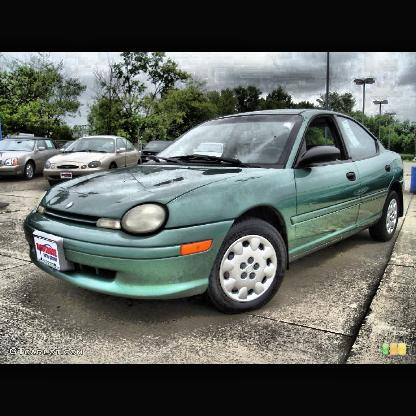Plymouth Neon Coupe 1999: (25, 110, 408, 315)
